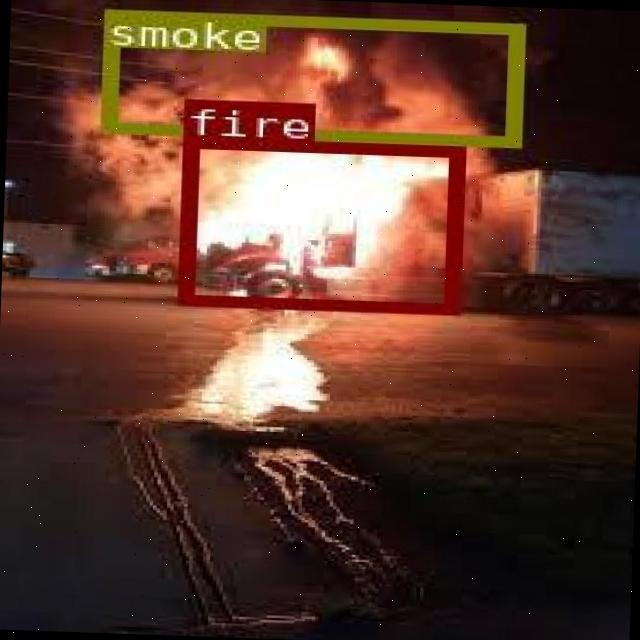fire: (176, 135, 462, 312)
smoke: (98, 8, 520, 144)
